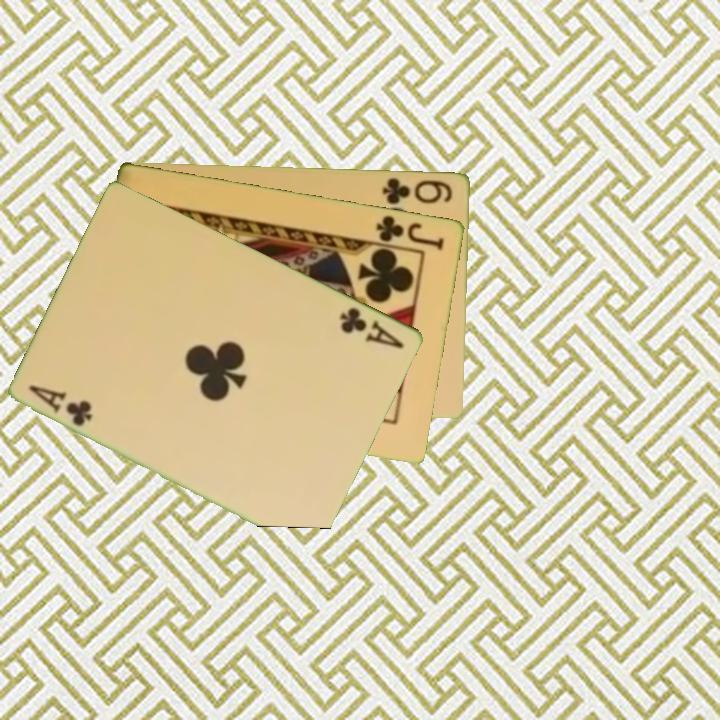6c: (379, 173, 456, 207)
Ac: (337, 303, 408, 351), (25, 381, 96, 429)
Jc: (373, 211, 448, 253)
